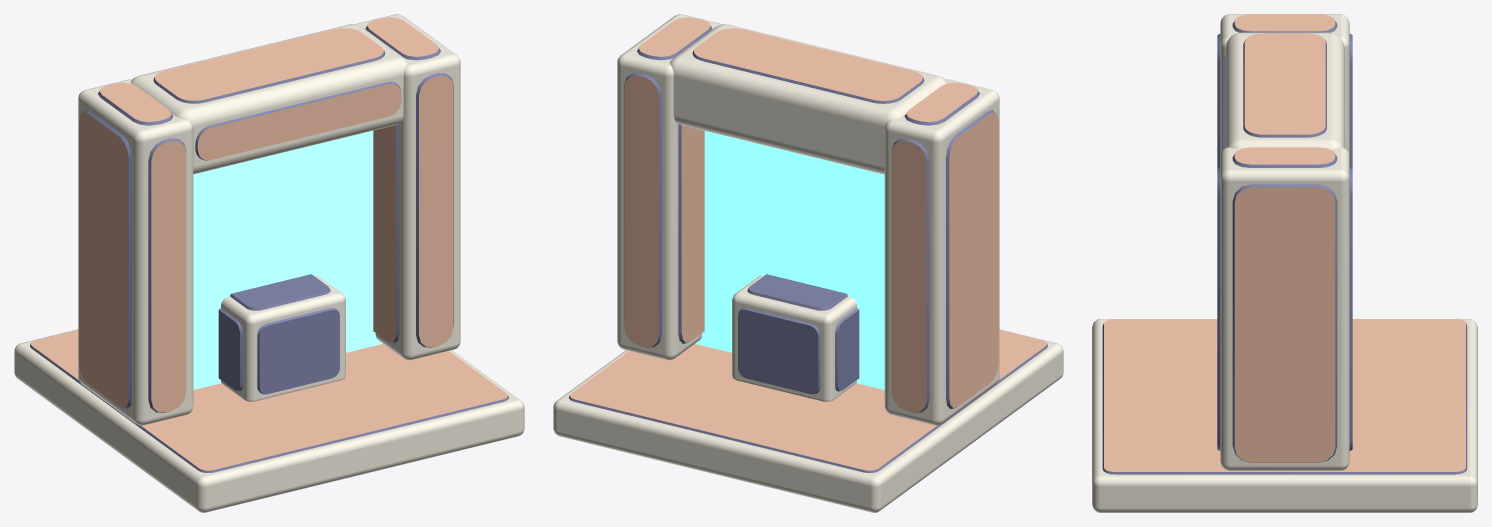
Rendered from R4X_StructuralScanner.fbx.
The picture shows the model from 3 angles, left to right: view 1: azimuth 30°, elevation 25°; view 2: azimuth 150°, elevation 25°; view 3: azimuth 270°, elevation 25°; orthographic projection. The views are drawn at different scales.
Parts seen in each view (by area): view 1: R4X_StructuralScanner_Body; view 2: R4X_StructuralScanner_Body; view 3: R4X_StructuralScanner_Body.
Part boxes in pixels (x1=…): R4X_StructuralScanner_Body: x1=14, y1=14, x2=524, y2=512; R4X_StructuralScanner_Body: x1=553, y1=14, x2=1063, y2=512; R4X_StructuralScanner_Body: x1=1092, y1=14, x2=1477, y2=512.
Bounding box in the file's own units: 0.52 × 0.5178 × 0.514.
